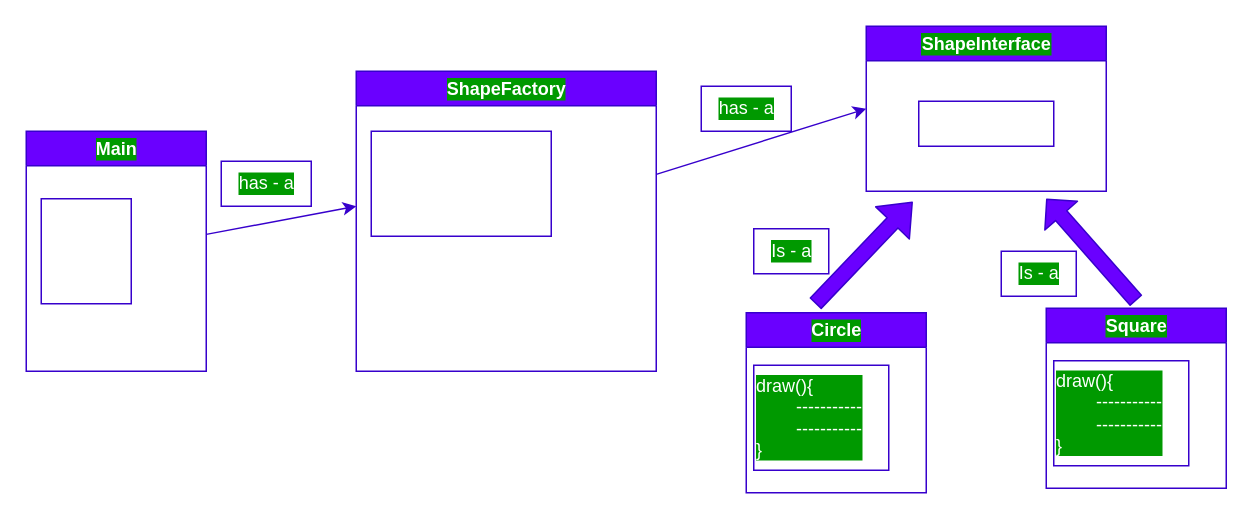
The diagram is 1253 pixels wide and 519 high, and some of its shapes have lost their labels. The centre of each missing label's shape, as x and y in pixels:
"Main() { -------- ------- }" goes at [85,250].
"Shape getShape(){ --------------- --------------- }" goes at [460,183].
"void draw();" goes at [985,123].
